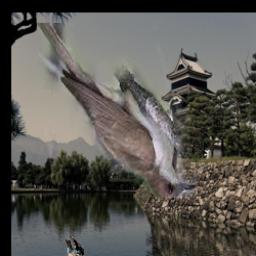Cuckoo: (37, 23, 197, 198)
Swallow: (66, 234, 85, 256)
